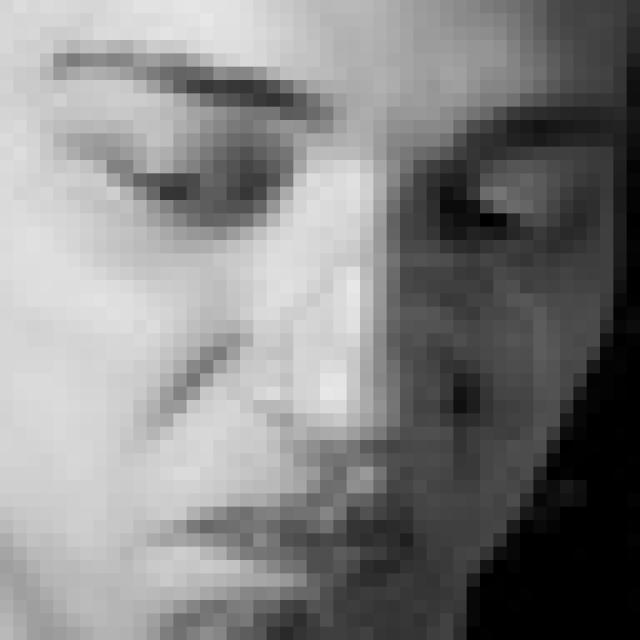disgust: (42, 52, 595, 612)
